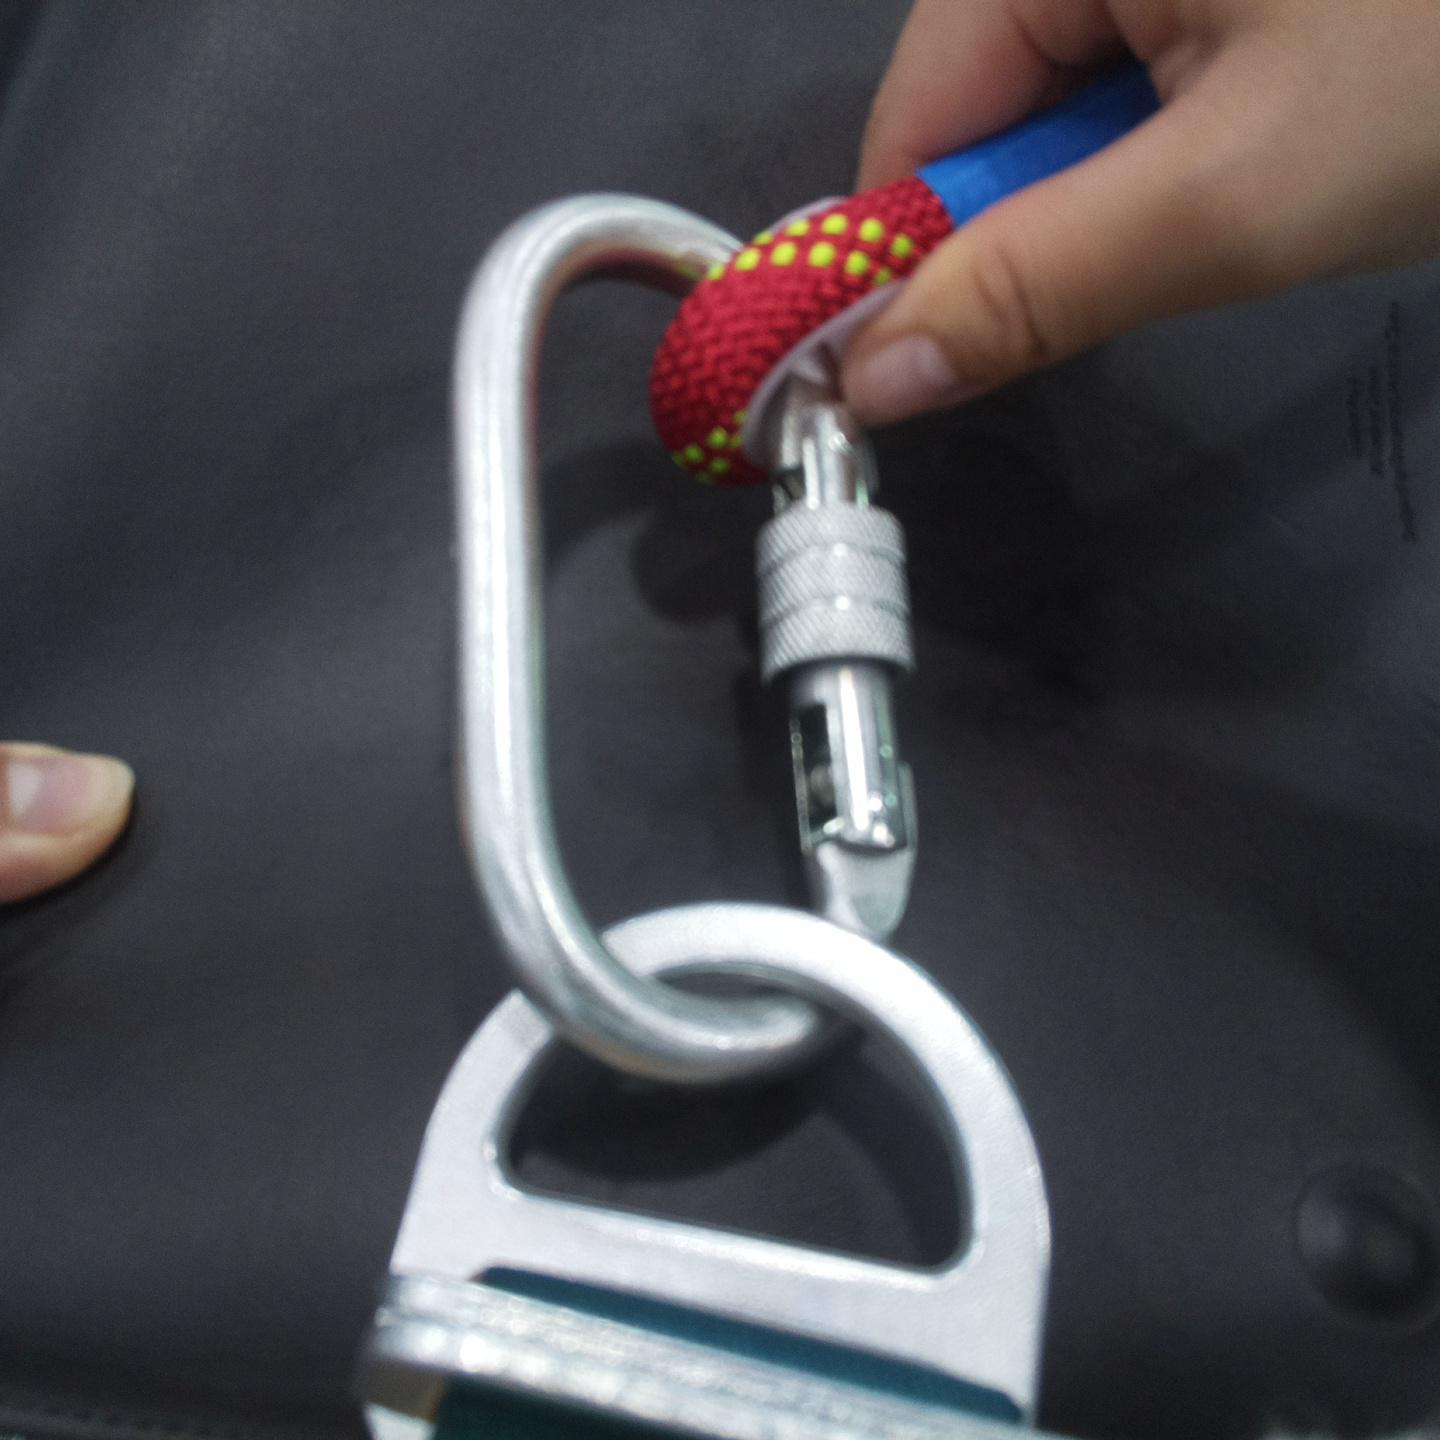SUCCESS: (389, 584, 1052, 1367)
